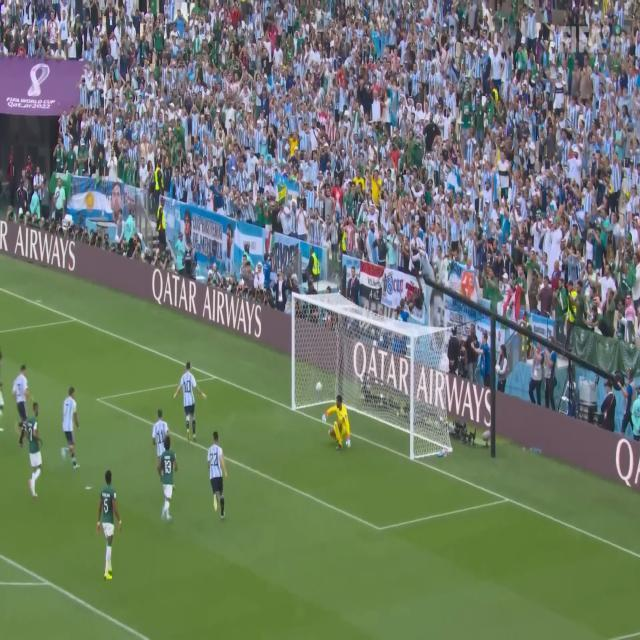football: (308, 380, 331, 393)
